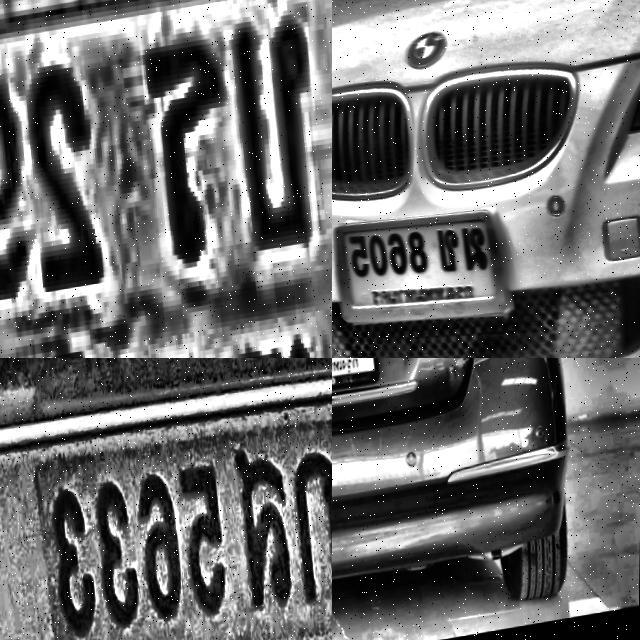license-plate: (0, 0, 332, 358), (0, 358, 332, 640), (332, 206, 513, 336), (332, 358, 388, 411)
